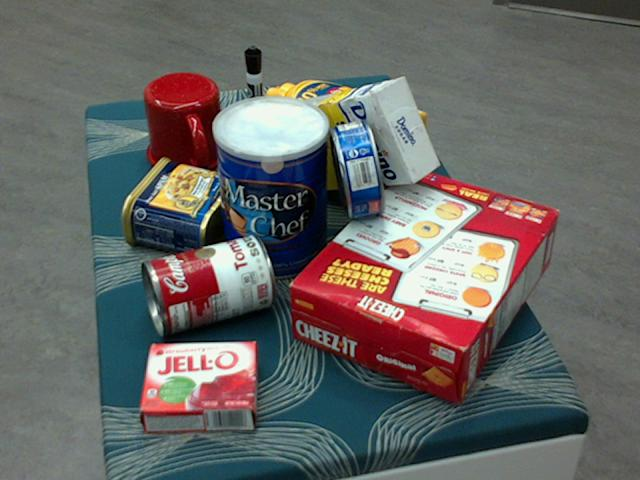cracker_box: (287, 165, 559, 402)
gelatin_box: (139, 341, 257, 430)
large_marker: (243, 45, 265, 148)
master_chef_can: (212, 97, 327, 282)
mug: (143, 73, 229, 175)
mustard_bottle: (264, 79, 426, 172)
potted_meat_can: (120, 157, 241, 256)
sugar_box: (270, 78, 438, 190)
tomato_soup_can: (140, 235, 273, 334)
tuna_fish_can: (330, 117, 385, 217)
